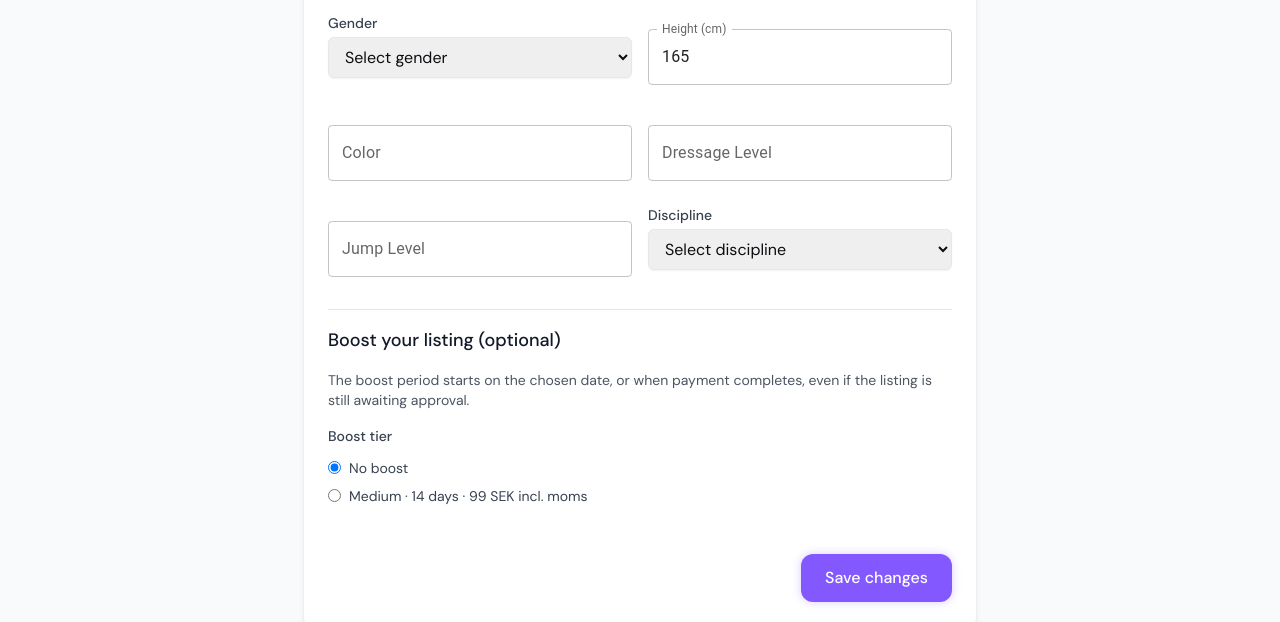
Test case: EditProduct › says the changes were saved when only the boost fails
This screenshot has width=1280, height=622.
(page scrolled)
Click the radio button labelled "Medium · 14 days · 99 SEK incl. moms": click(334, 496) [328,489,341,502]
(page scrolled)
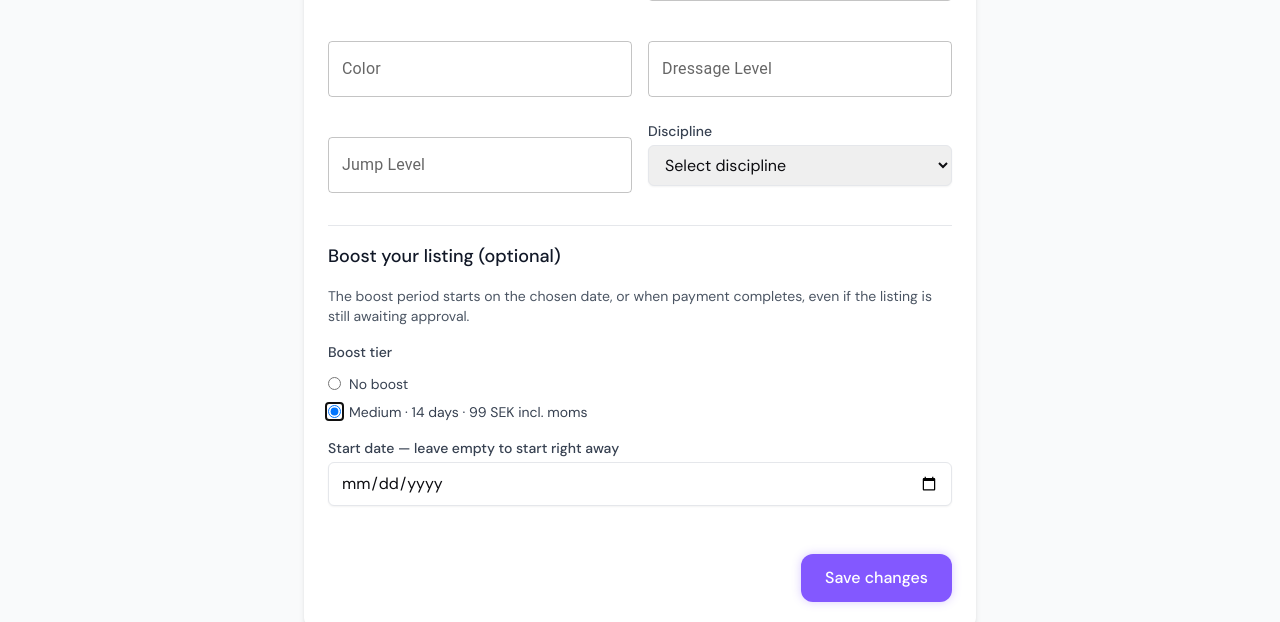
Click the button "Save changes": click(877, 578) [801,554,952,602]
(page scrolled)
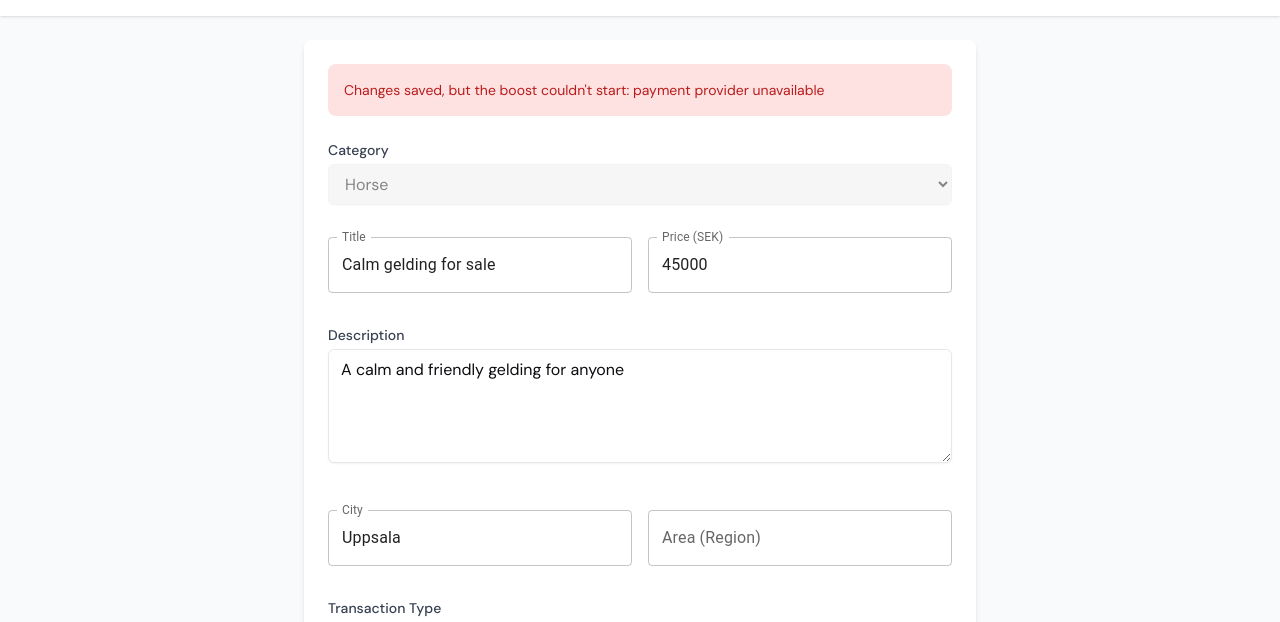
Expected: the message reads "Changes saved, but the boost couldn't start: payment provider unavailable", [344,80,825,98]
